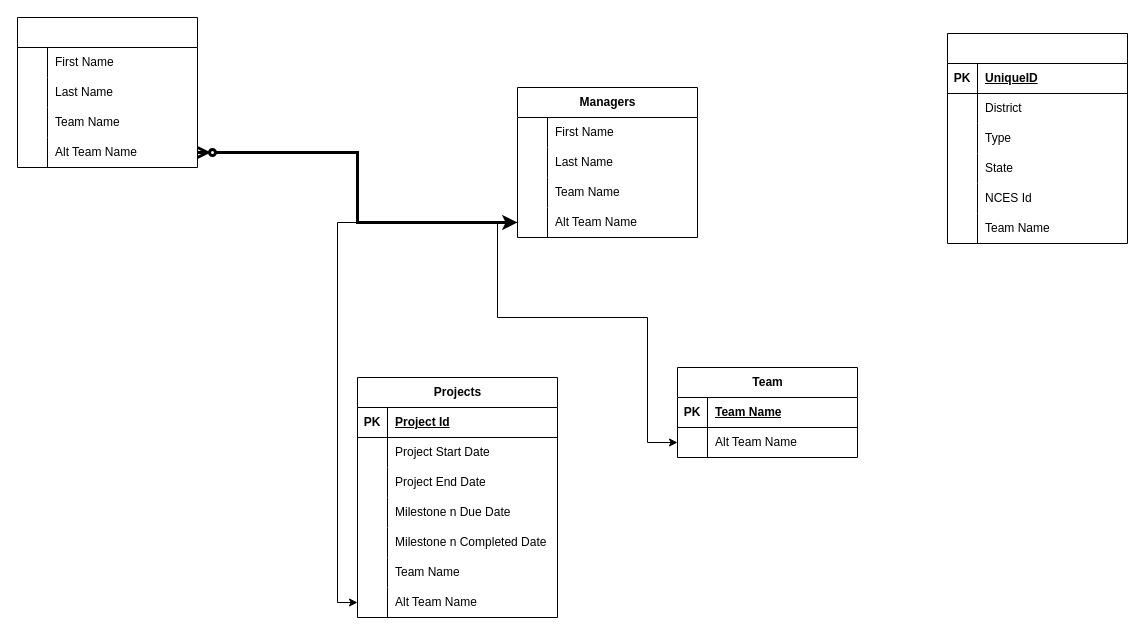
Some shapes in this 1145 by 635 pixel diagram are drawn without their labels. The box of each missing label's shape, as (x1, y1, x2, y2) in pixels:
Proj Managers: (16, 16, 198, 168)
Schools: (946, 32, 1128, 244)
